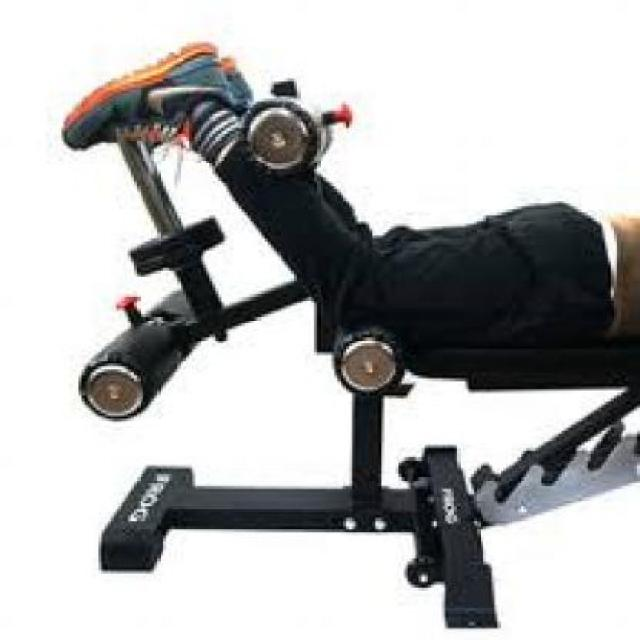reg curl machine: (38, 33, 640, 624)
